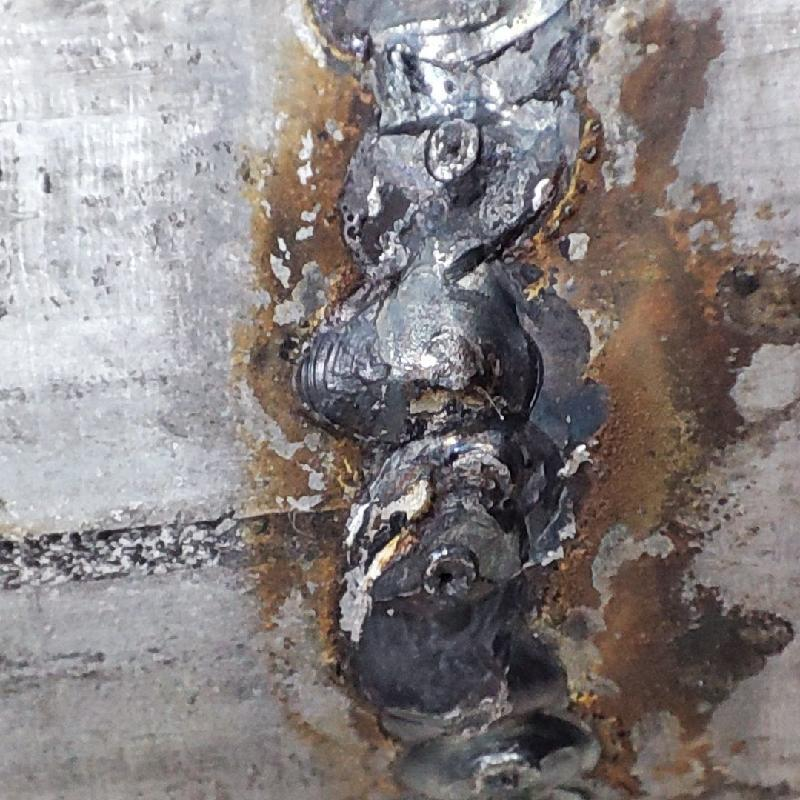Surface_pores: (427, 119, 483, 179), (423, 550, 469, 602)
wrong_size: (298, 4, 604, 794)
